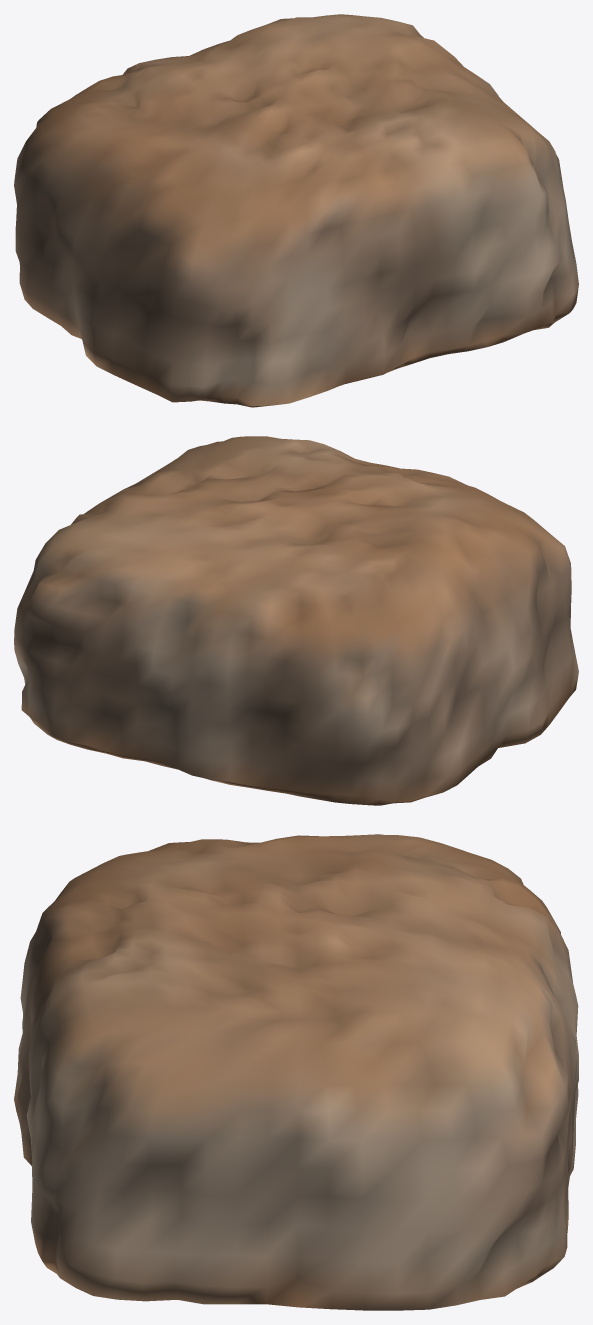
Rendered from scooby-doo.glb.
3 views of the same model, one above another, from view 1: azimuth 30°, elevation 25°; view 2: azimuth 150°, elevation 25°; view 3: azimuth 270°, elevation 25° (orthographic). The views are drawn at different scales.
Visible parts, largest first — view 1: cover-scooby-doo; view 2: cover-scooby-doo; view 3: cover-scooby-doo.
Boxes of the visible parts, bbox=[...] form: cover-scooby-doo: bbox=[14, 14, 578, 407]; cover-scooby-doo: bbox=[14, 436, 578, 805]; cover-scooby-doo: bbox=[14, 834, 578, 1310].
Size of the model in its own units: 0.2816 by 0.12 by 0.2405.
